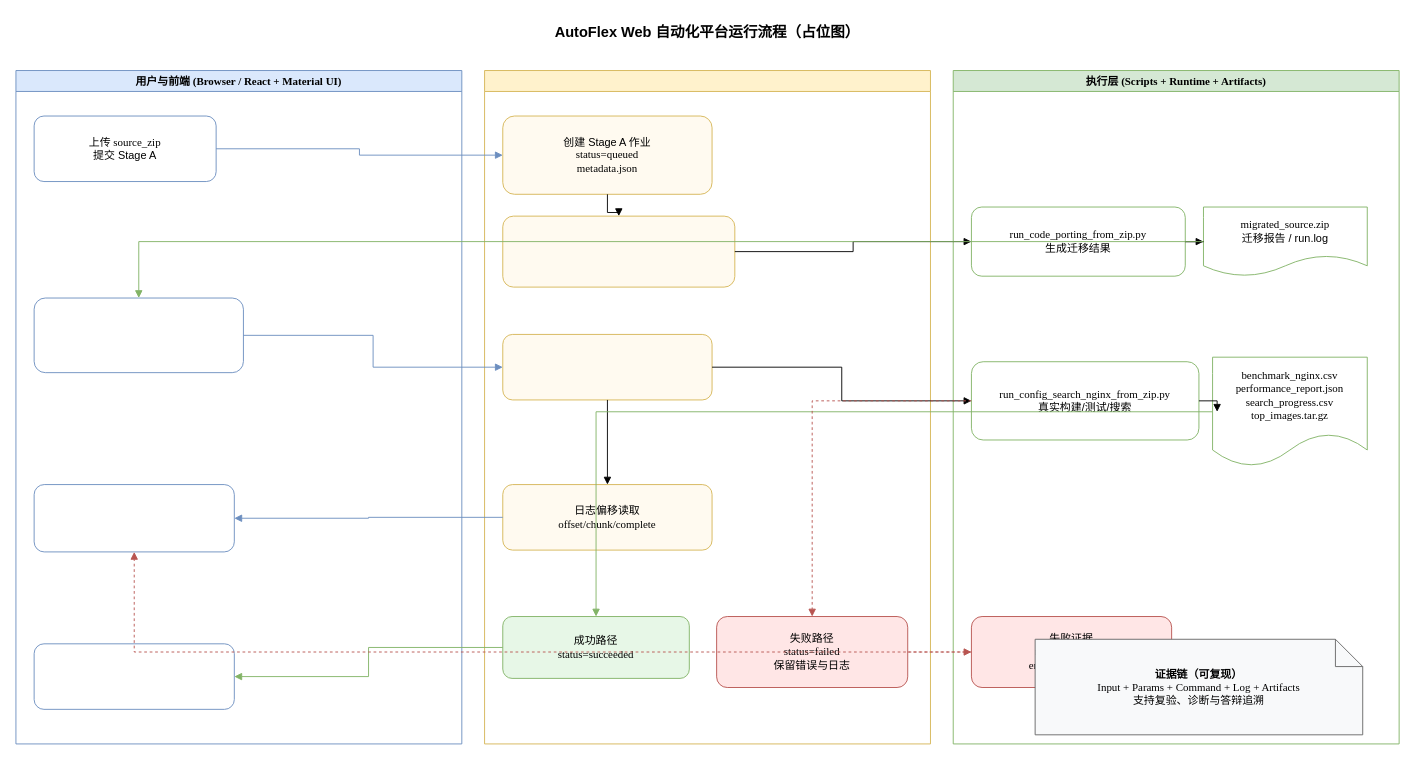
The diagram is 1415 pixels wide and 760 high, and some of its shapes have lost their labels. The box of each missing label's shape, as (x1, y1, x2, y2) in pixels:
下载产物 /api/jobs/ id /download: (33, 643, 234, 709)
创建 Stage B 作业 status=queued->running: (502, 334, 712, 400)
后端编排层 (Flask Job Orchestrator): (484, 70, 930, 744)
启动 run_code_porting_from_zip.py status=running: (502, 215, 735, 287)
轮询作业状态与日志 /api/jobs, /log-stream: (33, 484, 234, 552)
选择 migrated_source.zip 提交 Stage B + test bench: (33, 297, 243, 373)
